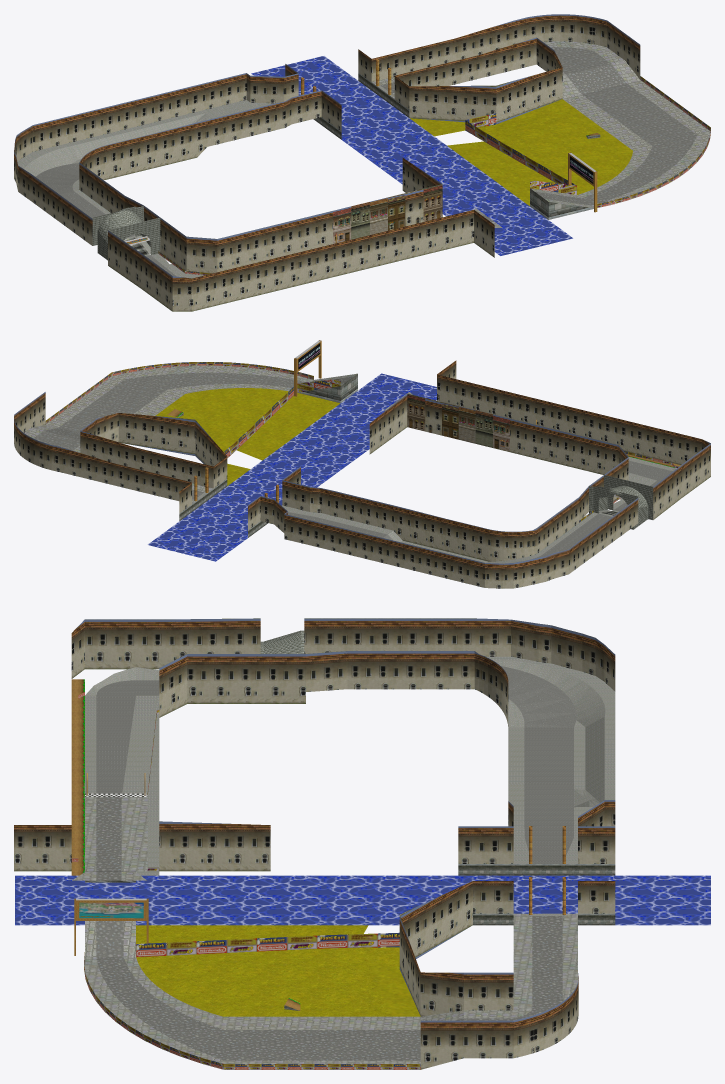
3 views of the same model, one above another, from view 1: azimuth 30°, elevation 25°; view 2: azimuth 150°, elevation 25°; view 3: azimuth 270°, elevation 25° (orthographic). The views are drawn at different scales.
Parts seen in each view (by area): view 1: NewTownDSChis-SKP--0_building2.001, NewTownDSChis-SKP--o_wata.001, NewTownDSChis-SKP--o_road1.001, NewTownDSChis-SKP--o_grass.001, NewTownDSChis-SKP--o_road2.001, NewTownDSChis-SKP--o_building2.001, NewTownDSChis-SKP--0_mat1.001, NewTownDSChis-SKP--o_ads.001; view 2: NewTownDSChis-SKP--0_building2.001, NewTownDSChis-SKP--o_wata.001, NewTownDSChis-SKP--o_grass.001, NewTownDSChis-SKP--o_road2.001, NewTownDSChis-SKP--o_road1.001, NewTownDSChis-SKP--o_building2.001, NewTownDSChis-SKP--0_mat1.001, NewTownDSChis-SKP--o_ads.001; view 3: NewTownDSChis-SKP--0_building2.001, NewTownDSChis-SKP--o_road1.001, NewTownDSChis-SKP--o_road2.001, NewTownDSChis-SKP--o_wata.001, NewTownDSChis-SKP--o_grass.001, NewTownDSChis-SKP--o_ads.001, NewTownDSChis-SKP--0_mat1.001, NewTownDSChis-SKP--o_combo.001, NewTownDSChis-GRP-16042-o_ad3.001, NewTownDSChis-GRP-16042-o_wood.001.
Boxes of the visible parts, <box> form: NewTownDSChis-SKP--0_building2.001: <box>14,14,640,311</box>; NewTownDSChis-SKP--o_wata.001: <box>251,56,572,255</box>; NewTownDSChis-SKP--o_road1.001: <box>17,41,710,278</box>; NewTownDSChis-SKP--o_grass.001: <box>410,99,632,205</box>; NewTownDSChis-SKP--o_road2.001: <box>36,47,697,276</box>; NewTownDSChis-SKP--o_building2.001: <box>333,184,442,243</box>; NewTownDSChis-SKP--0_mat1.001: <box>92,73,600,260</box>; NewTownDSChis-SKP--o_ads.001: <box>158,76,710,275</box>; NewTownDSChis-SKP--0_building2.001: <box>14,360,710,588</box>; NewTownDSChis-SKP--o_wata.001: <box>147,373,436,561</box>; NewTownDSChis-SKP--o_grass.001: <box>155,388,339,485</box>; NewTownDSChis-SKP--o_road2.001: <box>33,372,672,558</box>; NewTownDSChis-SKP--o_road1.001: <box>24,365,675,563</box>; NewTownDSChis-SKP--o_building2.001: <box>407,393,509,451</box>; NewTownDSChis-SKP--0_mat1.001: <box>178,374,653,537</box>; NewTownDSChis-SKP--o_ads.001: <box>45,362,678,522</box>; NewTownDSChis-SKP--0_building2.001: <box>14,618,615,1069</box>; NewTownDSChis-SKP--o_road1.001: <box>72,656,615,1063</box>; NewTownDSChis-SKP--o_road2.001: <box>96,666,576,1060</box>; NewTownDSChis-SKP--o_wata.001: <box>15,875,710,925</box>; NewTownDSChis-SKP--o_grass.001: <box>136,925,420,1016</box>; NewTownDSChis-SKP--o_ads.001: <box>71,692,420,1069</box>; NewTownDSChis-SKP--0_mat1.001: <box>85,630,615,1010</box>; NewTownDSChis-SKP--o_combo.001: <box>71,679,300,1010</box>; NewTownDSChis-GRP-16042-o_ad3.001: <box>79,902,143,918</box>; NewTownDSChis-GRP-16042-o_wood.001: <box>74,898,148,955</box>.
Size of the model in its own units: 81392 by 5514 by 59701.
15 materials, 14 textured.
